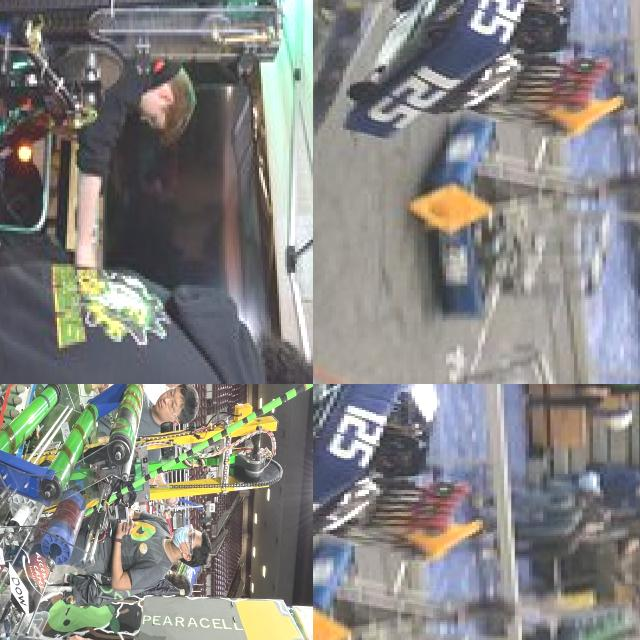FRC-Robots: (0, 0, 280, 307), (0, 384, 266, 640), (327, 0, 638, 156), (410, 128, 622, 330), (313, 384, 497, 580), (313, 551, 481, 640)
